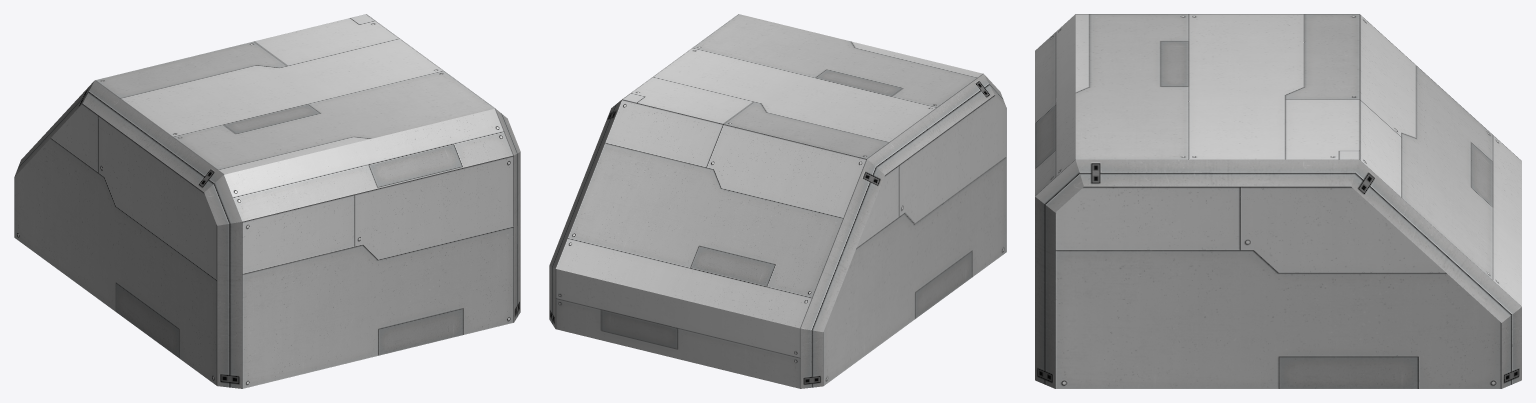
The model's file is Ext_Base_01.FBX.
3 renders of one model, left to right at view 1: azimuth 30°, elevation 25°; view 2: azimuth 150°, elevation 25°; view 3: azimuth 270°, elevation 25°, orthographic. The views are drawn at different scales.
Visible parts, largest first — view 1: Ext_Base_01; view 2: Ext_Base_01; view 3: Ext_Base_01.
Boxes of the visible parts, left/top/right/bottom form: Ext_Base_01: left=14, top=14, right=520, bottom=388; Ext_Base_01: left=549, top=14, right=1006, bottom=388; Ext_Base_01: left=1035, top=14, right=1521, bottom=388.
Bounding box in the file's own units: 190 × 120 × 240.
